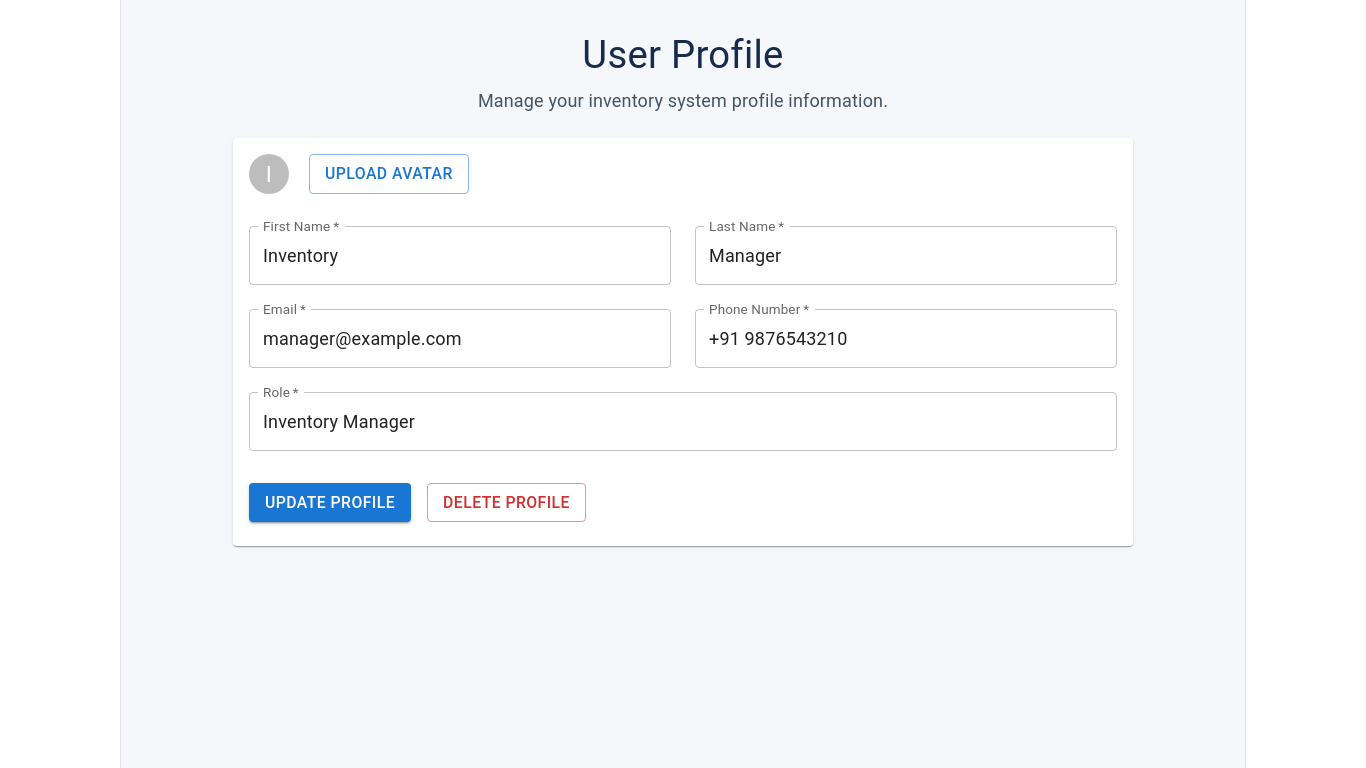
Test: Profile component › closes delete dialog when cancel is clicked
The width and height of the screenshot is (1366, 768).
Expected: the field showing "Inventory" is shown, [249,226,671,285]
Click the button "Delete Profile": click(506, 503) [427,483,586,522]
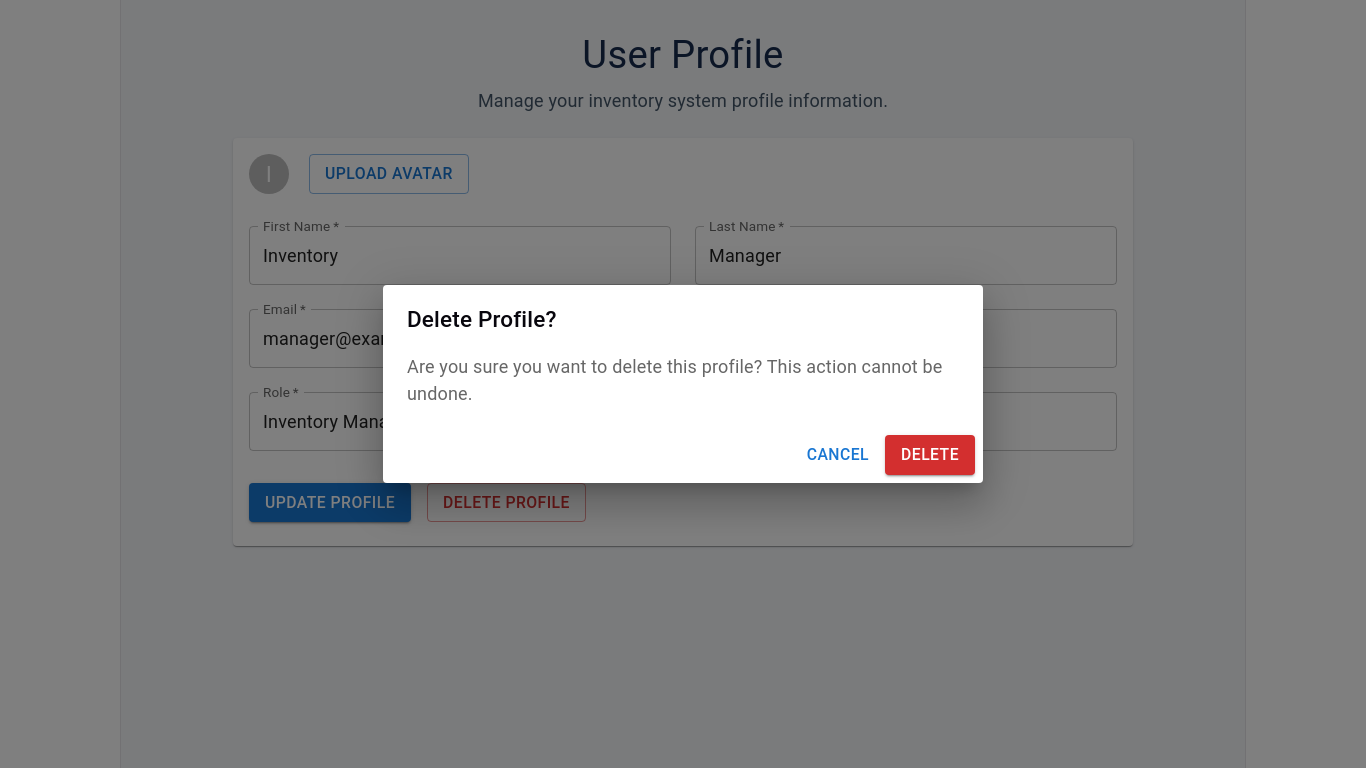
Now the dialog is shown, box [383,285,983,483]
Click the button "Cancel": click(838, 455) [799,435,877,475]
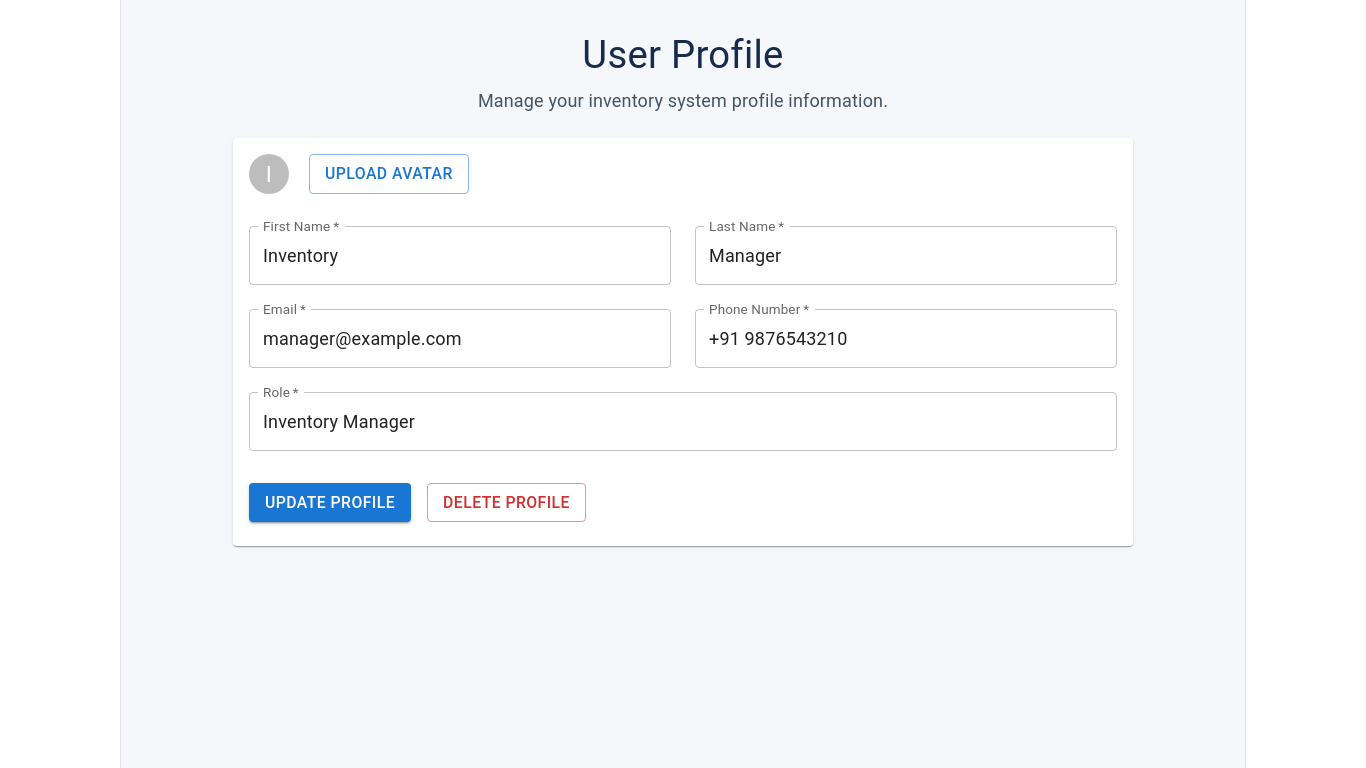
Now the dialog is gone
